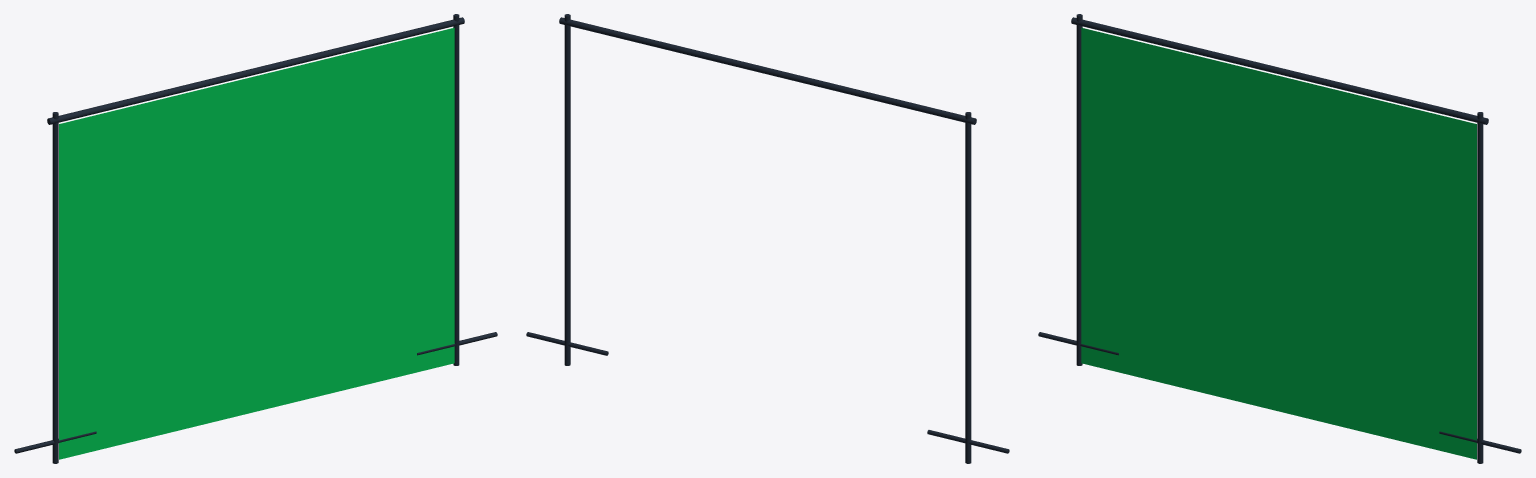
The model's file is greenscreen_backdrop.glb.
3 renders of one model, left to right at view 1: azimuth 30°, elevation 25°; view 2: azimuth 150°, elevation 25°; view 3: azimuth 330°, elevation 25°, orthographic.
Parts seen in each view (by area): view 1: GreenScreen; view 2: GreenScreen; view 3: GreenScreen.
Boxes of the visible parts, x1=… form: GreenScreen: x1=14, y1=14, x2=497, y2=463; GreenScreen: x1=526, y1=14, x2=1009, y2=463; GreenScreen: x1=1038, y1=14, x2=1521, y2=463.
Size of the model in its own units: 3.6 by 2.5 by 0.044.
